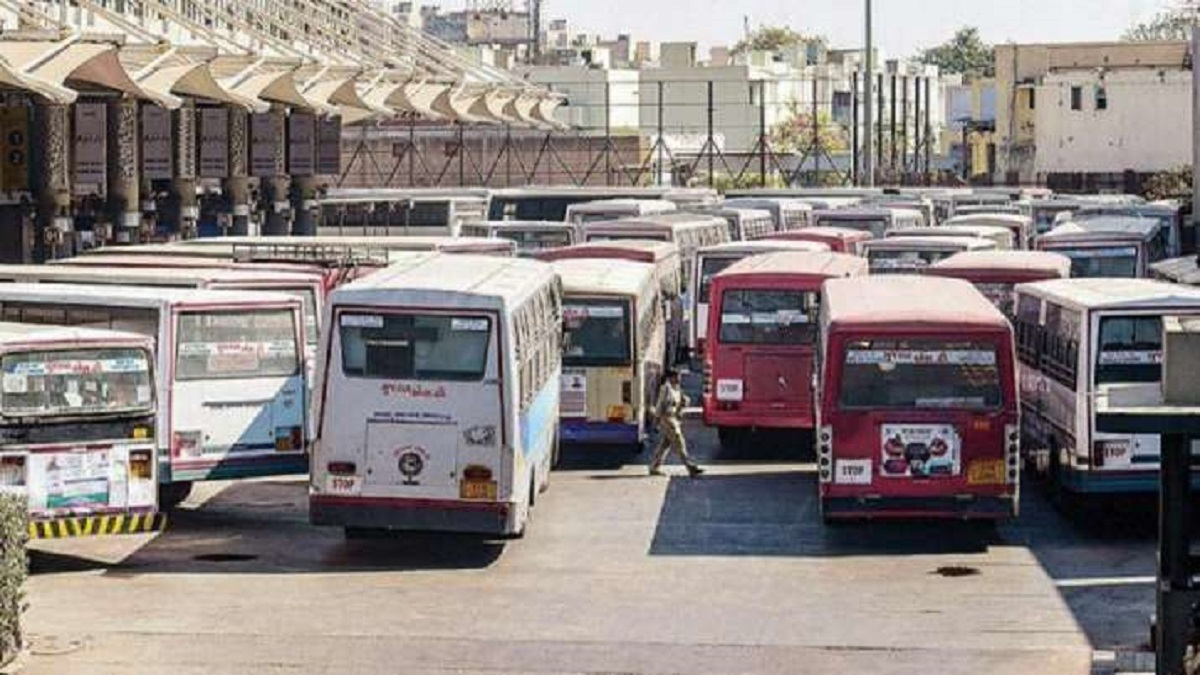bus: (305, 252, 568, 547), (802, 272, 1035, 531), (995, 276, 1195, 491), (7, 312, 165, 562), (141, 284, 314, 502), (702, 246, 861, 454), (557, 248, 666, 435)
